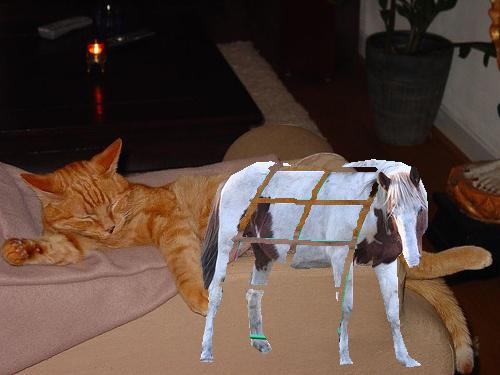tampered: (201, 160, 428, 367)
